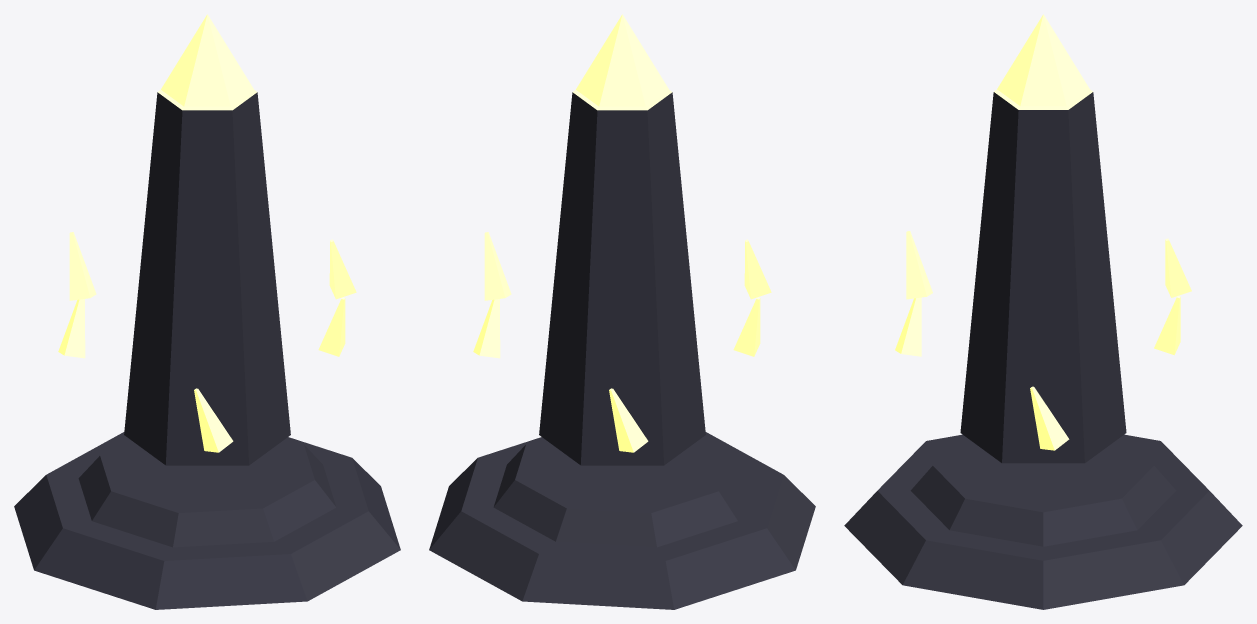
File: relic_apex_monolith.glb
3 renders of one model, left to right at view 1: azimuth 30°, elevation 25°; view 2: azimuth 150°, elevation 25°; view 3: azimuth 270°, elevation 25°, orthographic.
Visible parts, largest first — view 1: RelicApexMonolith; view 2: RelicApexMonolith; view 3: RelicApexMonolith.
Boxes of the visible parts, bbox=[...] form: RelicApexMonolith: bbox=[14, 14, 400, 609]; RelicApexMonolith: bbox=[429, 14, 815, 609]; RelicApexMonolith: bbox=[844, 14, 1242, 609].
Size of the model in its own units: 3.6 by 5.1 by 3.6.
